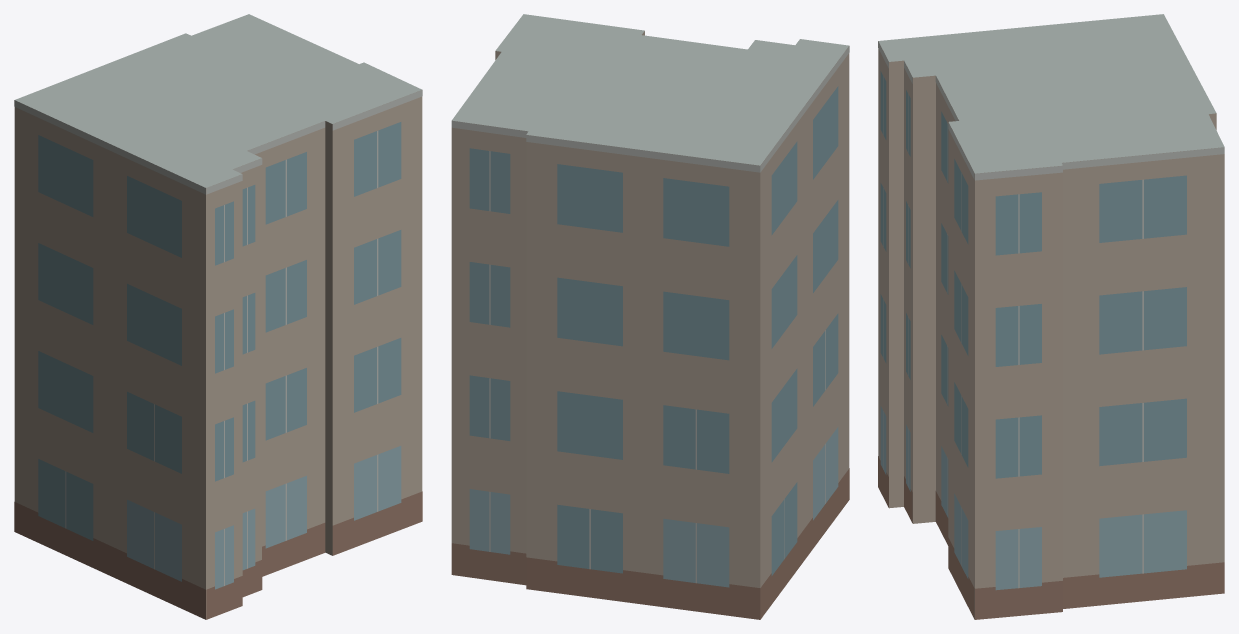
Rendered from survey-upis-33026282.glb.
3 views of the same model, side by side, from view 1: azimuth 30°, elevation 25°; view 2: azimuth 150°, elevation 25°; view 3: azimuth 270°, elevation 25° (orthographic). The views are drawn at different scales.
Visible parts, largest first — view 1: survey-upis-33026282.tmp; view 2: survey-upis-33026282.tmp; view 3: survey-upis-33026282.tmp.
Part boxes in pixels (left/top/right/bottom): survey-upis-33026282.tmp: left=14, top=14, right=422, bottom=619; survey-upis-33026282.tmp: left=451, top=14, right=849, bottom=619; survey-upis-33026282.tmp: left=878, top=14, right=1224, bottom=619.
Bounding box in the file's own units: 12.05 × 15.7 × 11.06.
